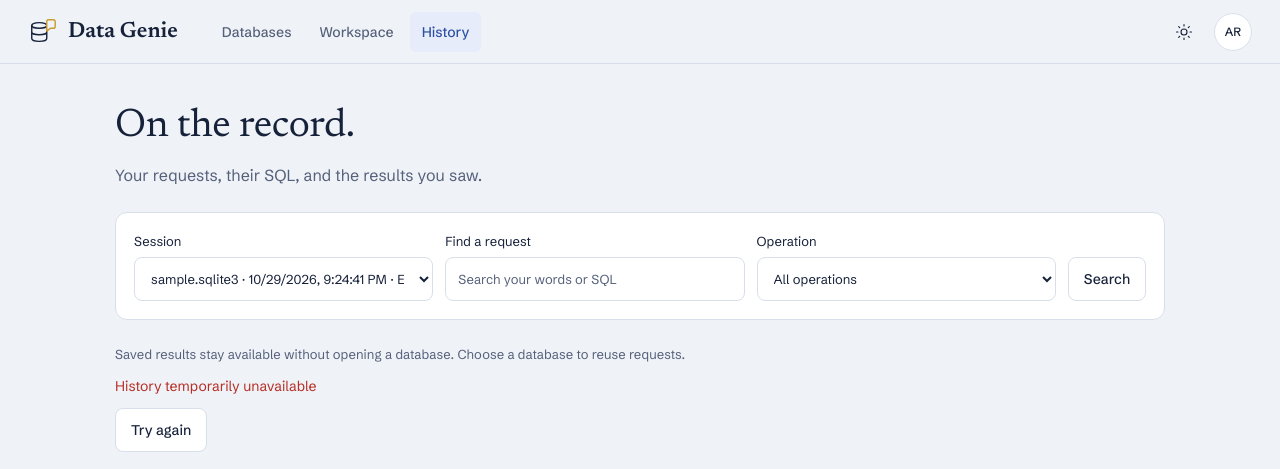
Test case: stops the History loading state on failure and clears the error after retry
Expected: the message shows "History temporarily unavailable", [115,377,317,395]
Click the button "Try again" at coordinates (161, 430), box [115,408,207,452]
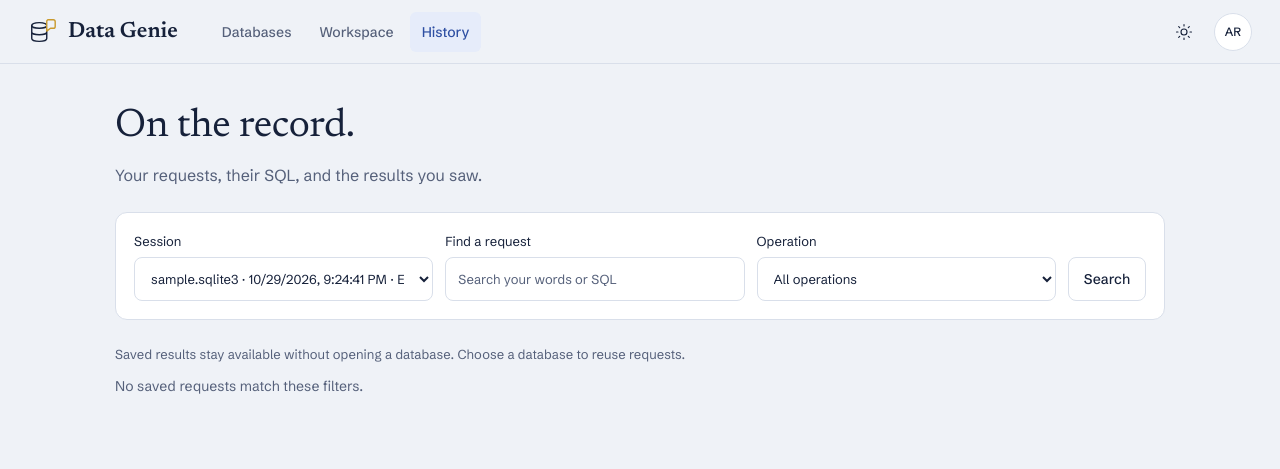
Expected: the text "No saved requests match these filters." is shown, [115,377,363,395]
Expected: the message "History temporarily unavailable Try again" is gone
